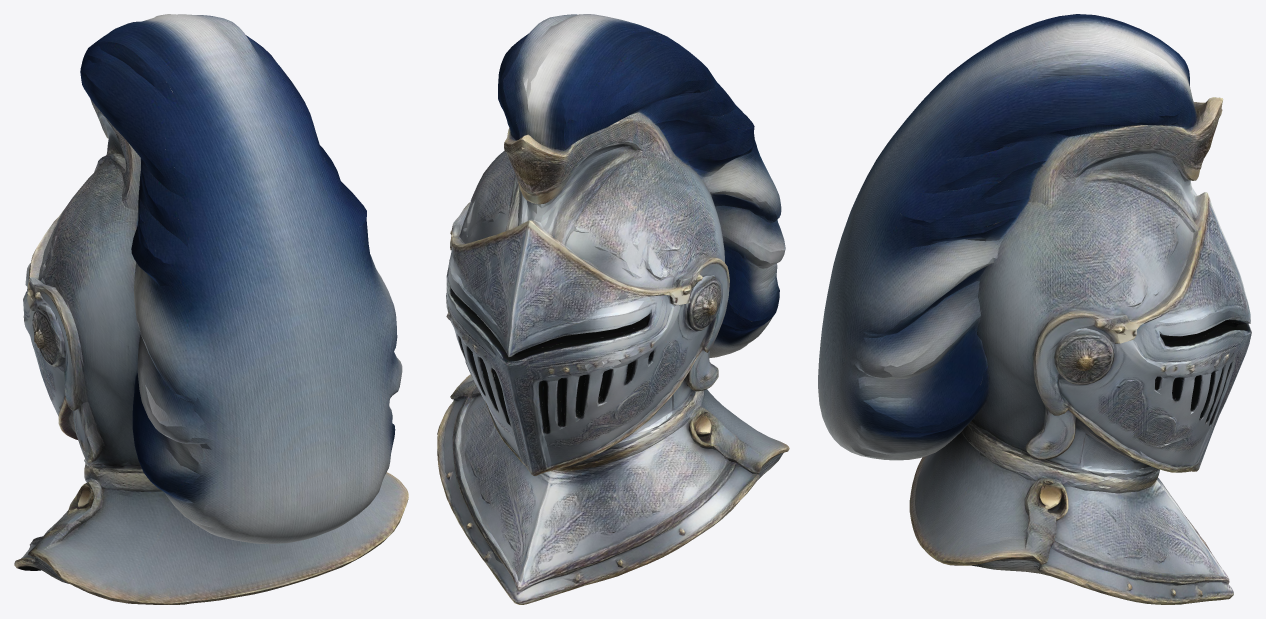
File: camp_helmet.glb
3 views of the same model, side by side, from view 1: azimuth 30°, elevation 25°; view 2: azimuth 150°, elevation 25°; view 3: azimuth 270°, elevation 25° (orthographic). The views are drawn at different scales.
Visible parts, largest first — view 1: CampHelmet; view 2: CampHelmet; view 3: CampHelmet.
Part boxes in pixels (x1,y1,x2,y2): CampHelmet: (14,14,408,604); CampHelmet: (437,14,789,604); CampHelmet: (818,14,1251,604).
Size of the model in its own units: 0.2718 by 0.4415 by 0.3042.
Materials: 1 (1 with a texture image).
